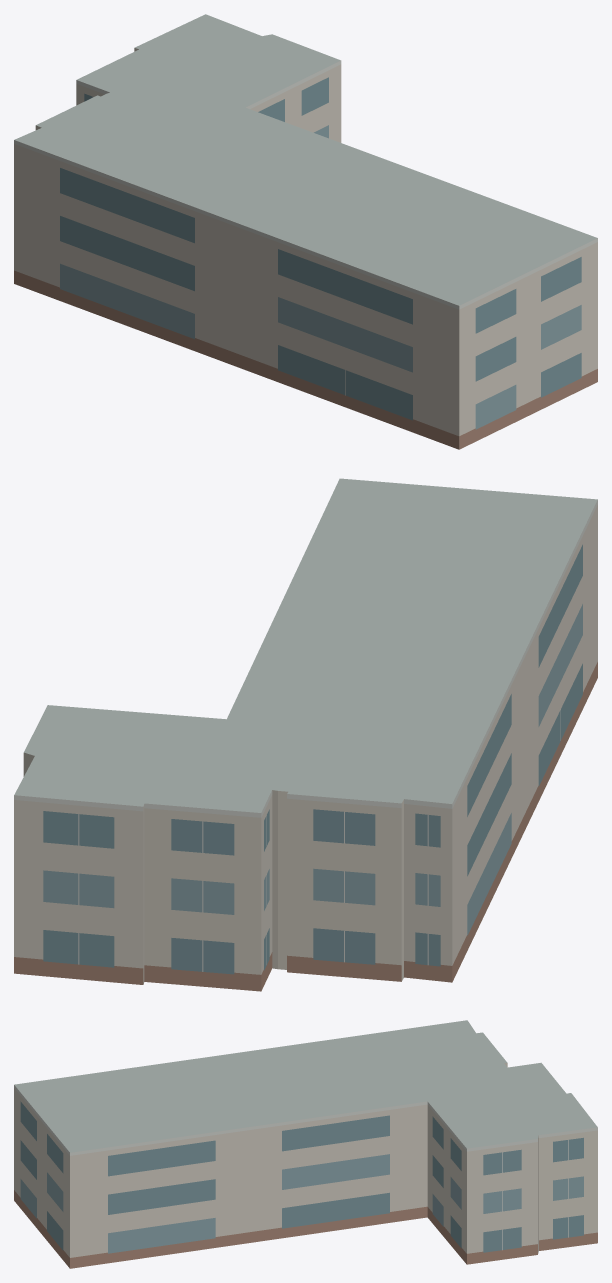
File: survey-upis-32473976.glb
The picture shows the model from 3 angles, top to bottom: view 1: azimuth 30°, elevation 25°; view 2: azimuth 150°, elevation 25°; view 3: azimuth 270°, elevation 25°; orthographic projection. The views are drawn at different scales.
Parts seen in each view (by area): view 1: survey-upis-32473976.tmp; view 2: survey-upis-32473976.tmp; view 3: survey-upis-32473976.tmp.
Part boxes in pixels (box(x1,y1,x2,y2)): survey-upis-32473976.tmp: box(14, 14, 597, 449); survey-upis-32473976.tmp: box(14, 478, 597, 991); survey-upis-32473976.tmp: box(14, 1020, 597, 1268).
Size of the model in its own units: 22.46 by 9.15 by 41.76.
